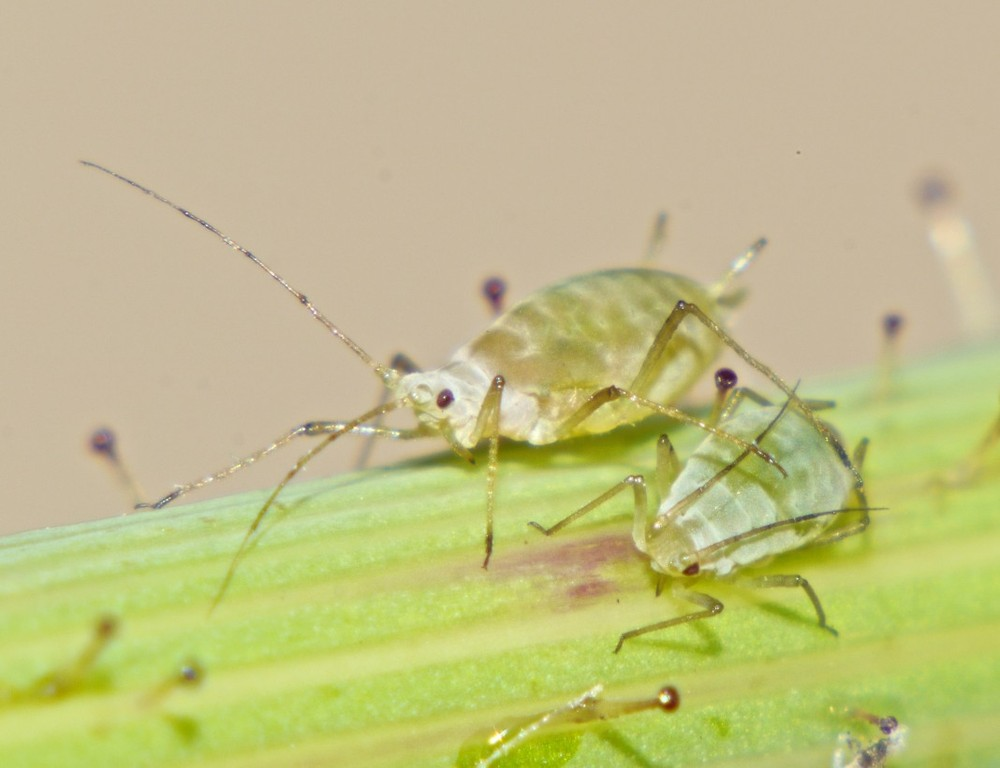Pulgon: (138, 161, 885, 514), (591, 357, 914, 647)
